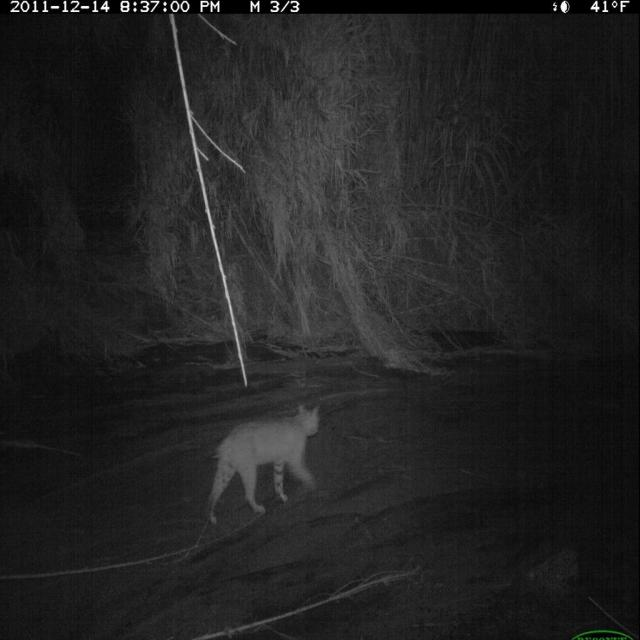bobcat: (197, 395, 329, 534)
